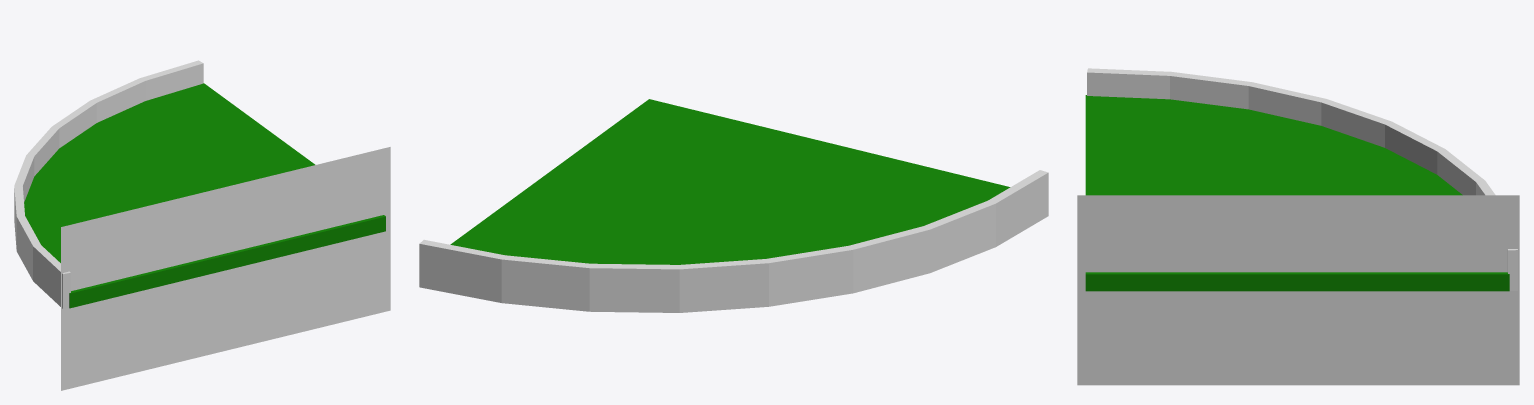
The model's file is soft_bend.glb.
3 views of the same model, side by side, from view 1: azimuth 30°, elevation 25°; view 2: azimuth 150°, elevation 25°; view 3: azimuth 270°, elevation 25° (orthographic). The views are drawn at different scales.
Visible parts, largest first — view 1: obj_snap, Cube, Cylinder; view 2: Cube, Cylinder; view 3: obj_snap.003, Cube, Cylinder.
Part boxes in pixels (x1,y1,x2,y2): obj_snap: [61, 147, 390, 390]; Cube: [24, 83, 385, 308]; Cylinder: [14, 60, 203, 309]; Cube: [450, 99, 1010, 264]; Cylinder: [419, 170, 1048, 312]; obj_snap.003: [1077, 195, 1519, 385]; Cube: [1085, 95, 1509, 291]; Cylinder: [1087, 68, 1517, 290].
Size of the model in its own units: 4.21 by 2 by 4.21.
